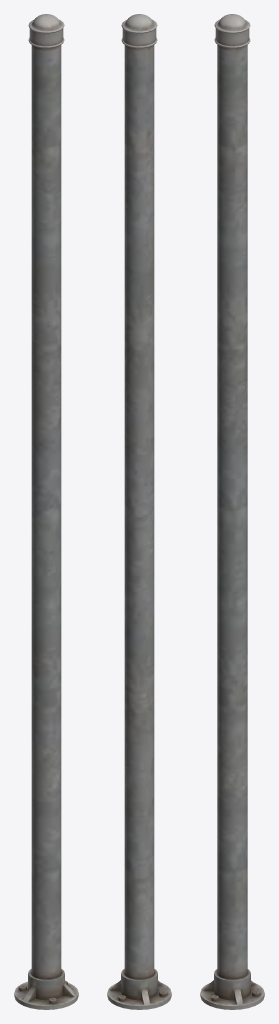
The model's file is chainlink_fence_post.glb.
3 views of the same model, side by side, from view 1: azimuth 30°, elevation 25°; view 2: azimuth 210°, elevation 25°; view 3: azimuth 330°, elevation 25° (orthographic).
Visible parts, largest first — view 1: chainlink_fence_post; view 2: chainlink_fence_post; view 3: chainlink_fence_post.
Part boxes in pixels (x1=…): chainlink_fence_post: x1=14, y1=14, x2=78, y2=1009; chainlink_fence_post: x1=107, y1=14, x2=171, y2=1009; chainlink_fence_post: x1=200, y1=14, x2=264, y2=1009.
Bounding box in the file's own units: 0.1494 × 2.52 × 0.1494.
Materials: 1 (1 with a texture image).
